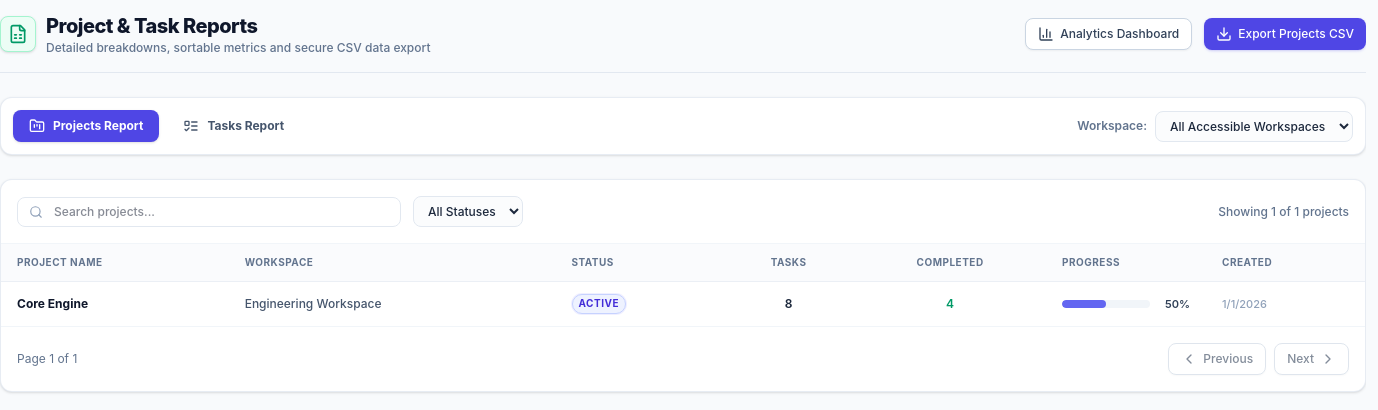
Test case: Phase 5: Analytics & Reports Frontend Components › renders ReportsPage and switches between Projects and Tasks tabs
Check: the heading "Project & Task Reports" is shown, box [46,14,257,38]
Check: the link "Core Engine" is shown, box [17,296,88,311]
Note: Switch to Tasks Tab
Click the button "Tasks Report". click: (234, 126)
box: [167,110,300,142]
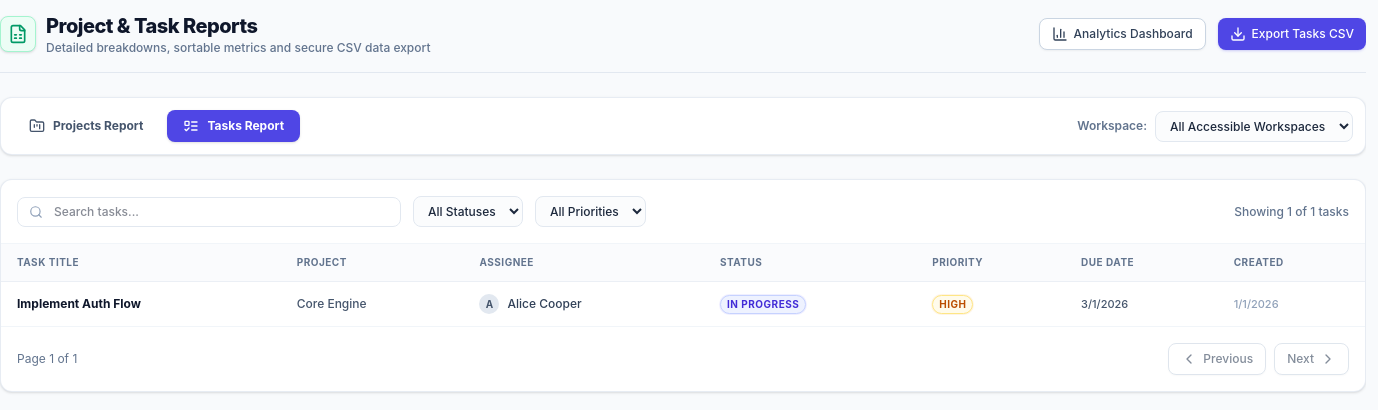
Check: the text "Implement Auth Flow" is shown, box [17,296,141,311]
Check: the text "in progress" is shown, box [720,295,806,314]
